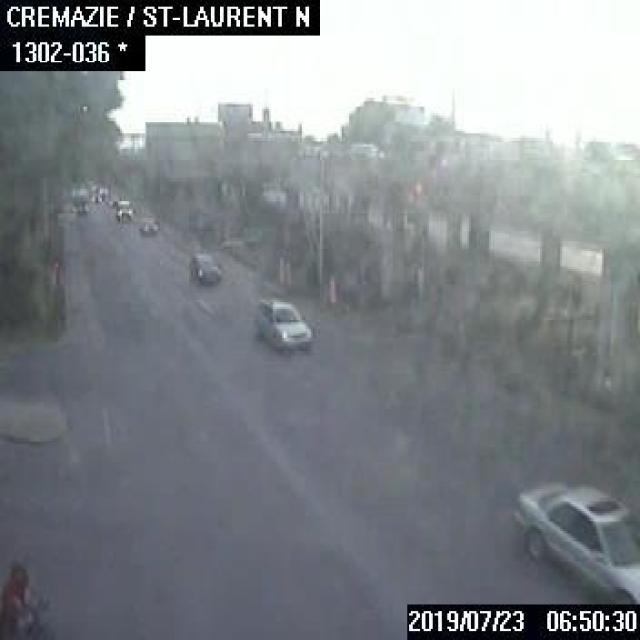construction: (327, 276, 335, 302)
vehicle: (507, 473, 638, 602), (0, 549, 38, 638), (254, 296, 311, 346), (187, 251, 224, 285), (67, 188, 90, 214), (114, 196, 131, 220), (136, 213, 158, 229)
